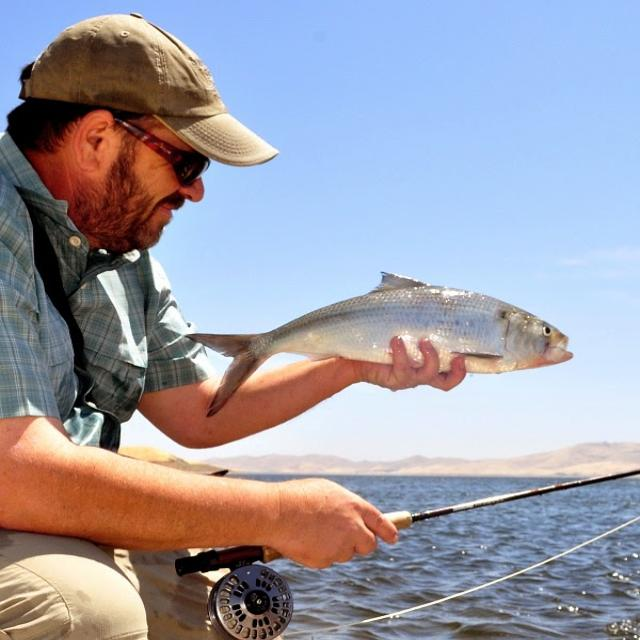Shad - American: (191, 272, 572, 413)
